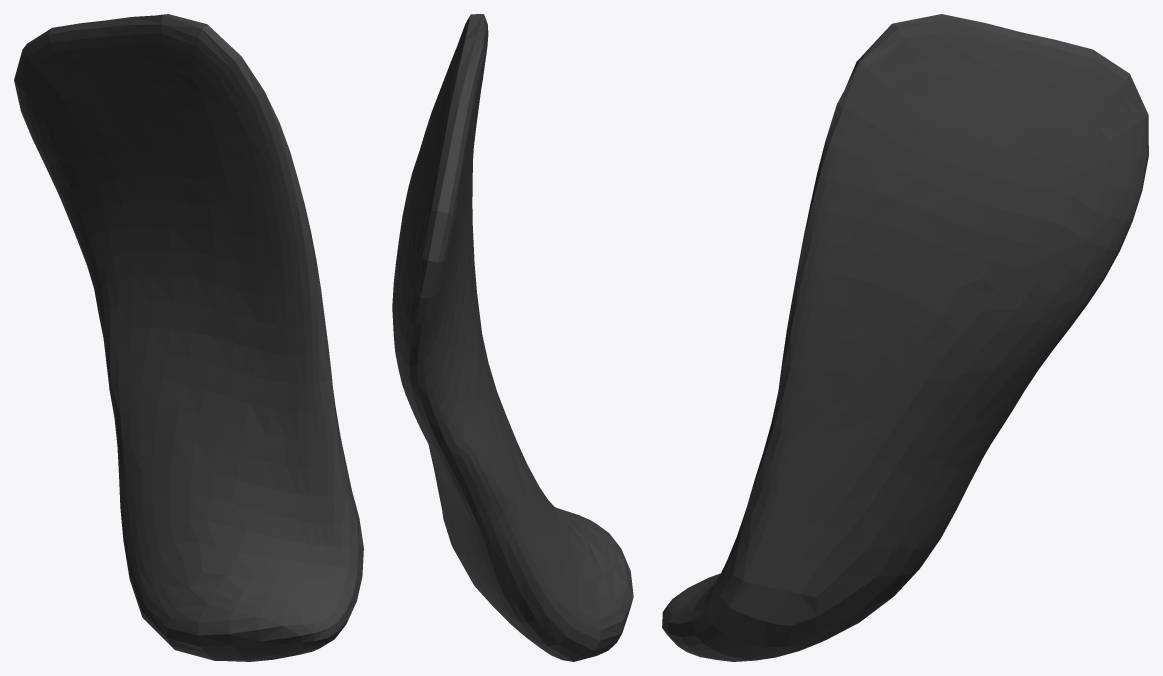
File: m_cricoarytenoideus_lat_LO_L.glb
The picture shows the model from 3 angles, left to right: view 1: azimuth 30°, elevation 25°; view 2: azimuth 150°, elevation 25°; view 3: azimuth 270°, elevation 25°; orthographic projection. The views are drawn at different scales.
Parts seen in each view (by area): view 1: m_cricoarytenoideus_lat_LO_L; view 2: m_cricoarytenoideus_lat_LO_L; view 3: m_cricoarytenoideus_lat_LO_L.
Boxes of the visible parts, left/top/right/bottom form: m_cricoarytenoideus_lat_LO_L: left=14, top=14, right=363, bottom=661; m_cricoarytenoideus_lat_LO_L: left=392, top=14, right=633, bottom=661; m_cricoarytenoideus_lat_LO_L: left=662, top=14, right=1148, bottom=661.
Bounding box in the file's own units: 0.0566 × 0.1847 × 0.1269.
1 material, 1 textured.
